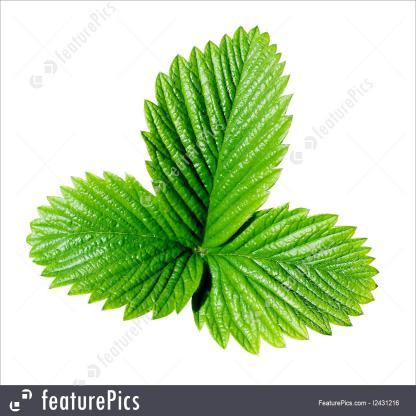Strawberry leaf: (139, 14, 291, 252), (184, 195, 384, 357), (16, 167, 206, 324)
